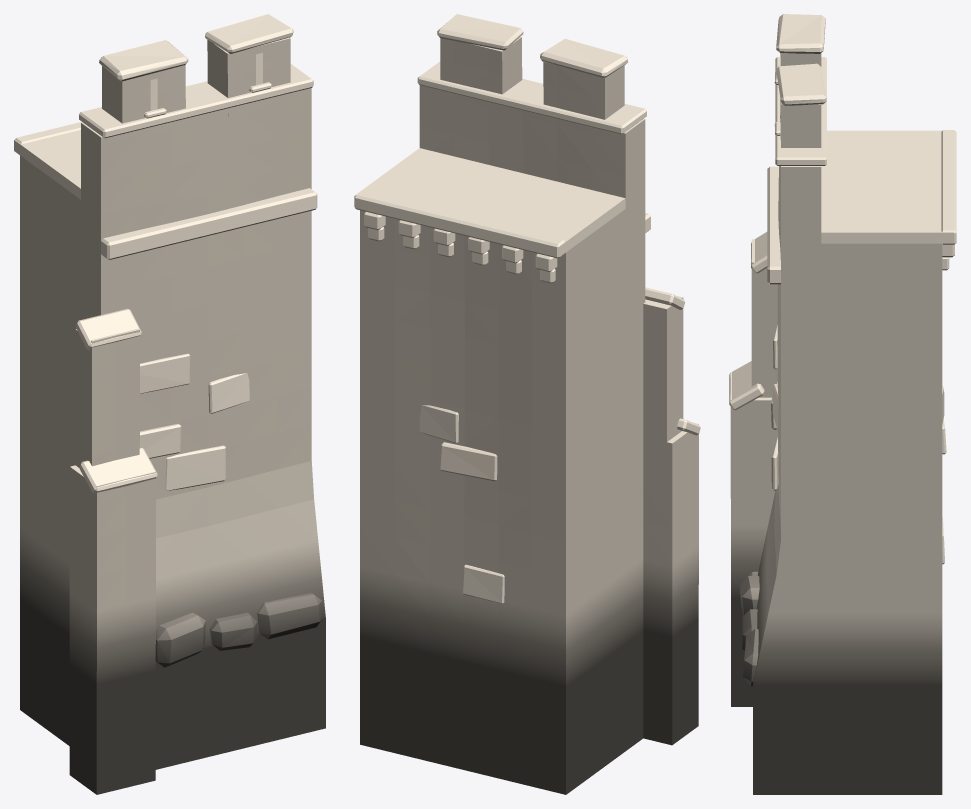
The model's file is SM_VK_TownWall_Straight.fbx.
3 views of the same model, side by side, from view 1: azimuth 30°, elevation 25°; view 2: azimuth 150°, elevation 25°; view 3: azimuth 270°, elevation 25° (orthographic). The views are drawn at different scales.
Visible parts, largest first — view 1: SM_VK_TownWall_Straight.001; view 2: SM_VK_TownWall_Straight.001; view 3: SM_VK_TownWall_Straight.001.
Boxes of the visible parts, <box> form: SM_VK_TownWall_Straight.001: <box>14,14,325,794</box>; SM_VK_TownWall_Straight.001: <box>354,14,700,794</box>; SM_VK_TownWall_Straight.001: <box>729,14,956,794</box>.
Size of the model in its own units: 3.45 by 9.45 by 2.82.
